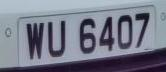0: (116, 11, 136, 54)
4: (97, 12, 117, 58)
6: (77, 13, 99, 60)
7: (134, 10, 152, 50)
U: (46, 17, 71, 63)
W: (21, 18, 48, 66)
